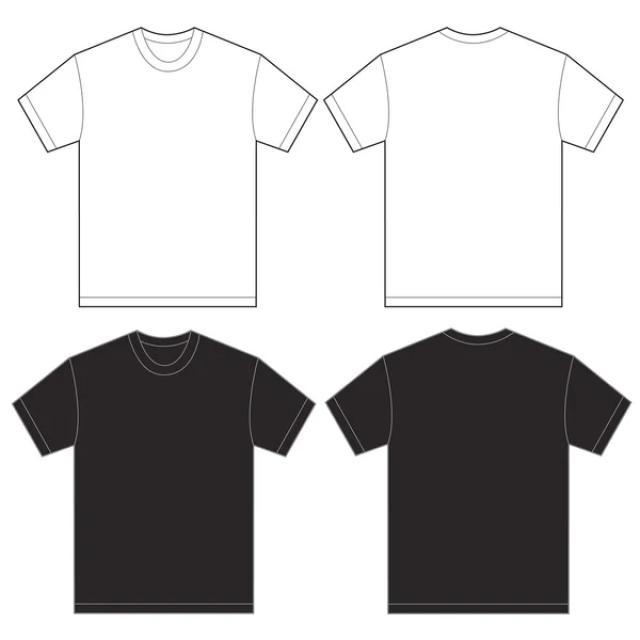shirt: (327, 329, 631, 613), (15, 330, 313, 613), (325, 27, 624, 307), (18, 28, 317, 308)
